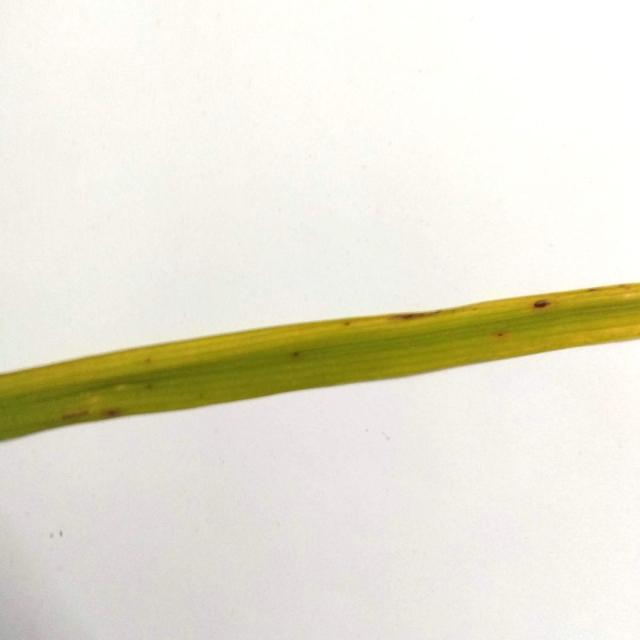Brown spot: (0, 268, 640, 460)
